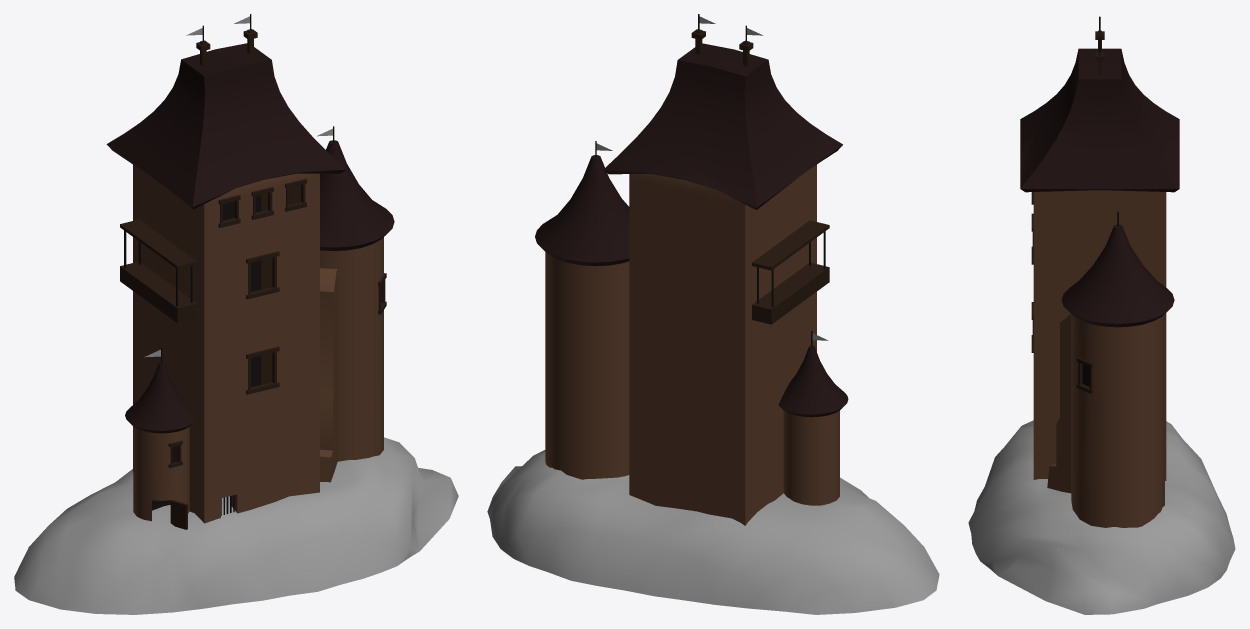
The model's file is castle.FBX.
3 renders of one model, left to right at view 1: azimuth 30°, elevation 25°; view 2: azimuth 150°, elevation 25°; view 3: azimuth 270°, elevation 25°, orthographic. The views are drawn at different scales.
Visible parts, largest first — view 1: castle; view 2: castle; view 3: castle.
Part boxes in pixels (x1,y1,x2,y2): castle: (14, 14, 458, 614); castle: (487, 14, 939, 614); castle: (968, 16, 1235, 614).
Size of the model in its own units: 223 by 260 by 129.
